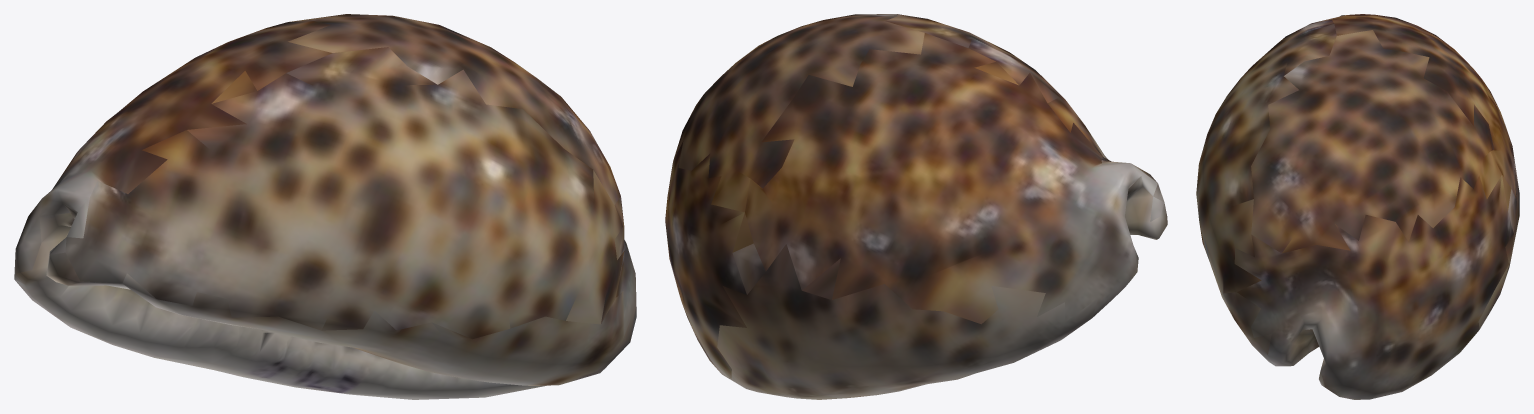
File: cowrieShell.glb
The picture shows the model from 3 angles, left to right: view 1: azimuth 30°, elevation 25°; view 2: azimuth 150°, elevation 25°; view 3: azimuth 270°, elevation 25°; orthographic projection. The views are drawn at different scales.
Visible parts, largest first — view 1: cowrieShell; view 2: cowrieShell; view 3: cowrieShell.
Part boxes in pixels (x1,y1,x2,y2): cowrieShell: (14, 14, 636, 399); cowrieShell: (665, 14, 1167, 399); cowrieShell: (1196, 14, 1519, 399).
Size of the model in its own units: 0.07 by 0.0485 by 0.048.
Materials: 1 (1 with a texture image).
